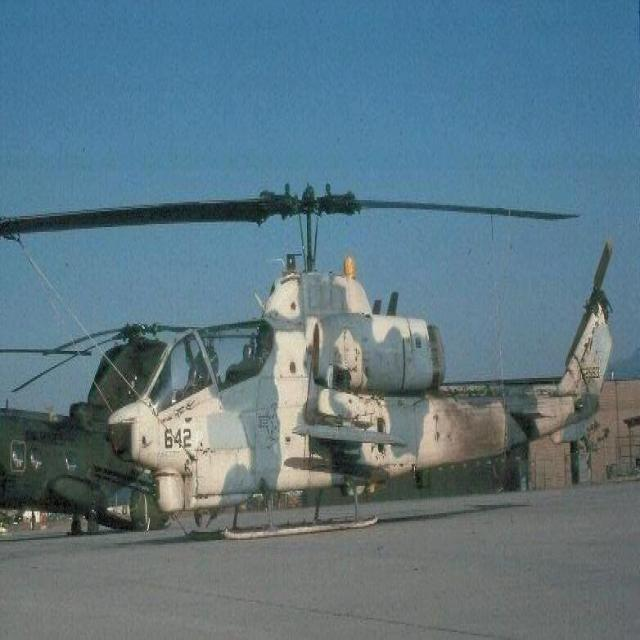MIL_HELO: (0, 188, 632, 542)
